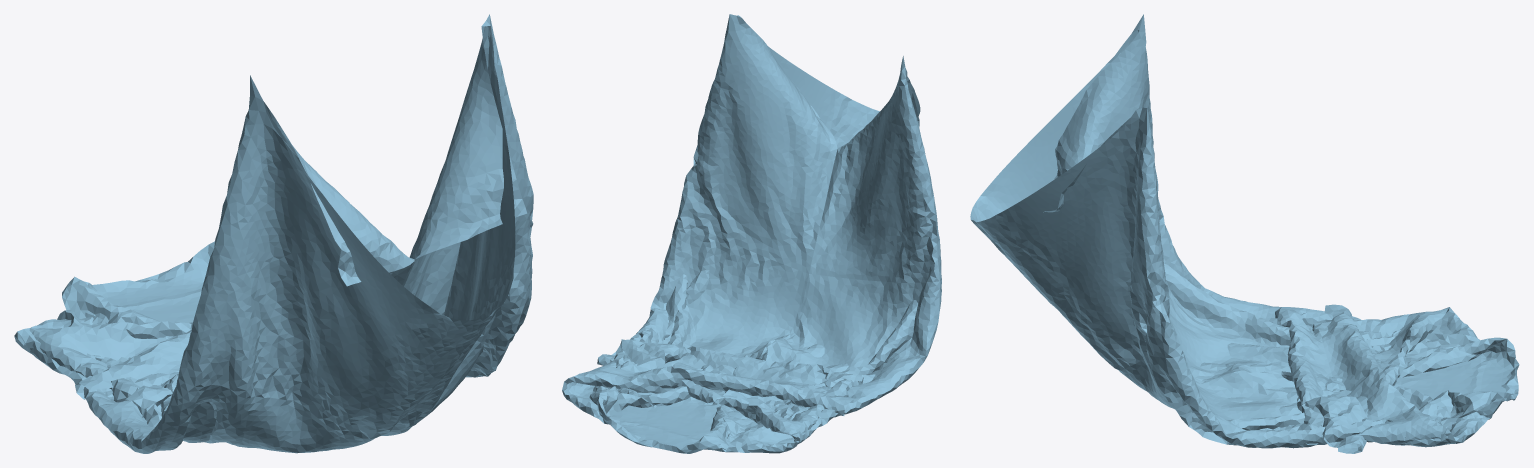
File: frame_09.glb
The picture shows the model from 3 angles, left to right: view 1: azimuth 30°, elevation 25°; view 2: azimuth 150°, elevation 25°; view 3: azimuth 270°, elevation 25°; orthographic projection. The views are drawn at different scales.
Visible parts, largest first — view 1: frame_09.obj; view 2: frame_09.obj; view 3: frame_09.obj.
Boxes of the visible parts, bbox=[...] form: frame_09.obj: bbox=[14, 14, 533, 453]; frame_09.obj: bbox=[562, 14, 941, 453]; frame_09.obj: bbox=[970, 14, 1519, 453].
Bounding box in the file's own units: 0.9206 × 0.9713 × 1.47.
